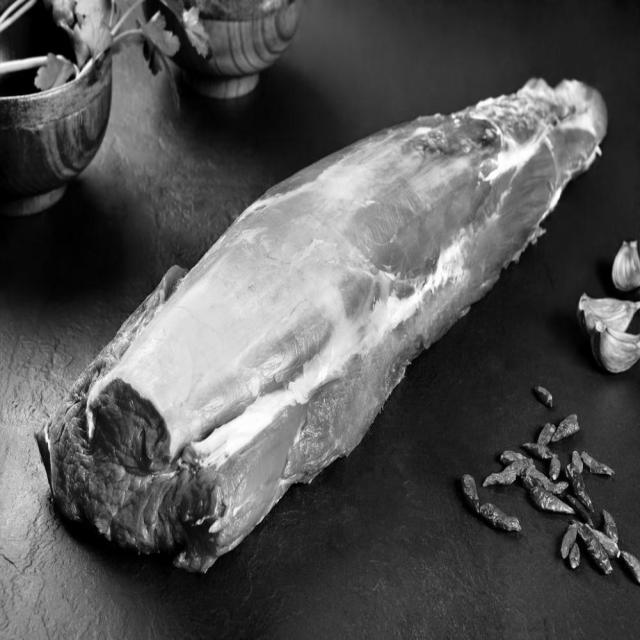thit than: (37, 239, 456, 542)
